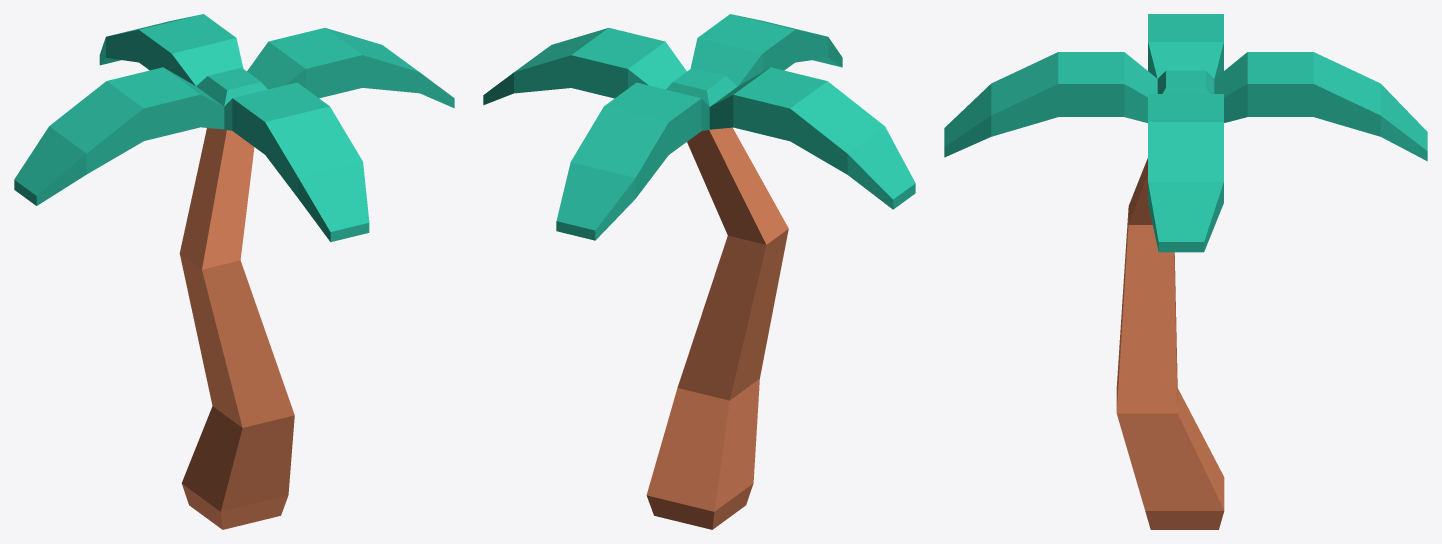
Rendered from tree_palmShort.dae.
The picture shows the model from 3 angles, left to right: view 1: azimuth 30°, elevation 25°; view 2: azimuth 150°, elevation 25°; view 3: azimuth 270°, elevation 25°; orthographic projection.
Visible parts, largest first — view 1: tree_palmShort; view 2: tree_palmShort; view 3: tree_palmShort.
Boxes of the visible parts, x1,y1,x2,y2 form: tree_palmShort: [14, 14, 454, 529]; tree_palmShort: [483, 14, 915, 529]; tree_palmShort: [944, 14, 1427, 529].
Bounding box in the file's own units: 1.03 × 1.06 × 1.03.
